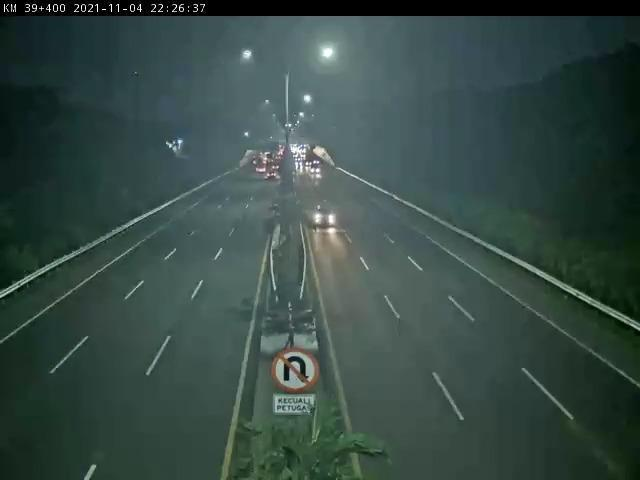car: (308, 197, 347, 238)
